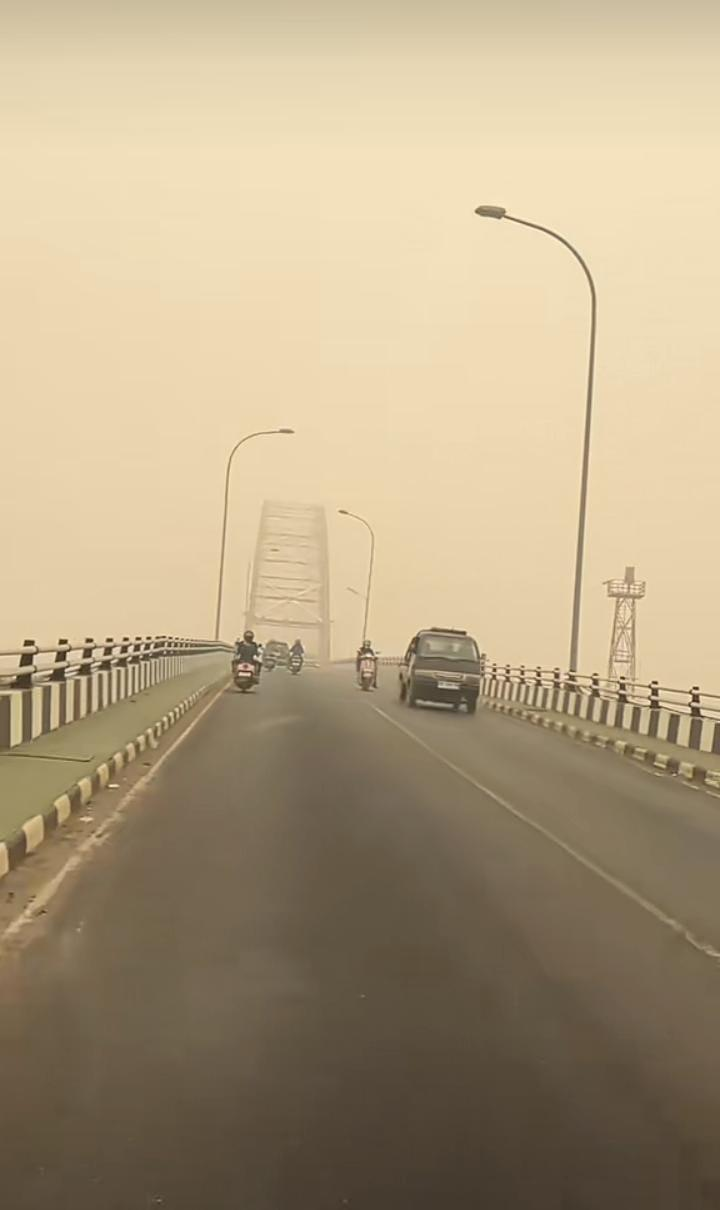Deteksi-Objek-Citra-Berasap: (0, 0, 720, 1210)
Kendaraan: (397, 626, 486, 714), (231, 650, 264, 693), (262, 638, 290, 672), (356, 650, 379, 691), (287, 650, 305, 676)
Manusia: (235, 630, 262, 676), (355, 640, 379, 679), (287, 638, 305, 665)
